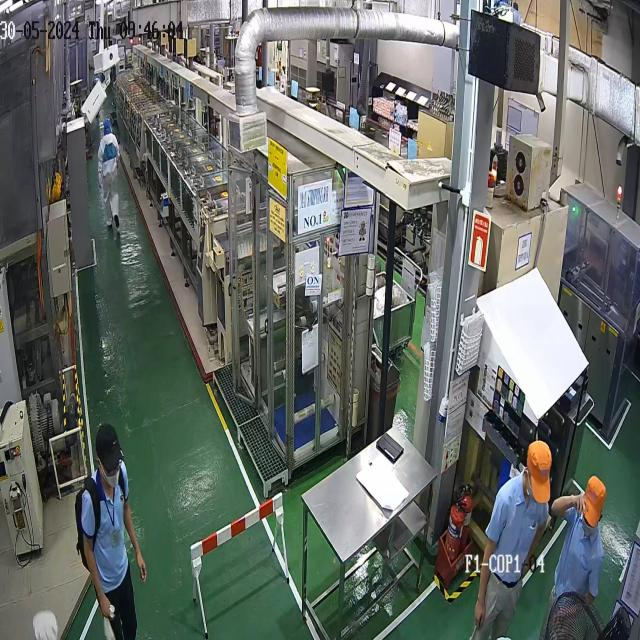Person: (470, 439, 552, 640), (75, 422, 146, 640), (544, 475, 606, 639), (97, 118, 120, 230)
